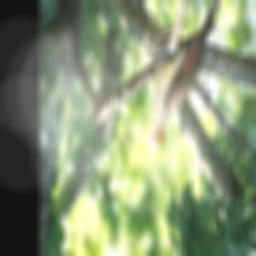Cuckoo: (149, 0, 235, 151)
